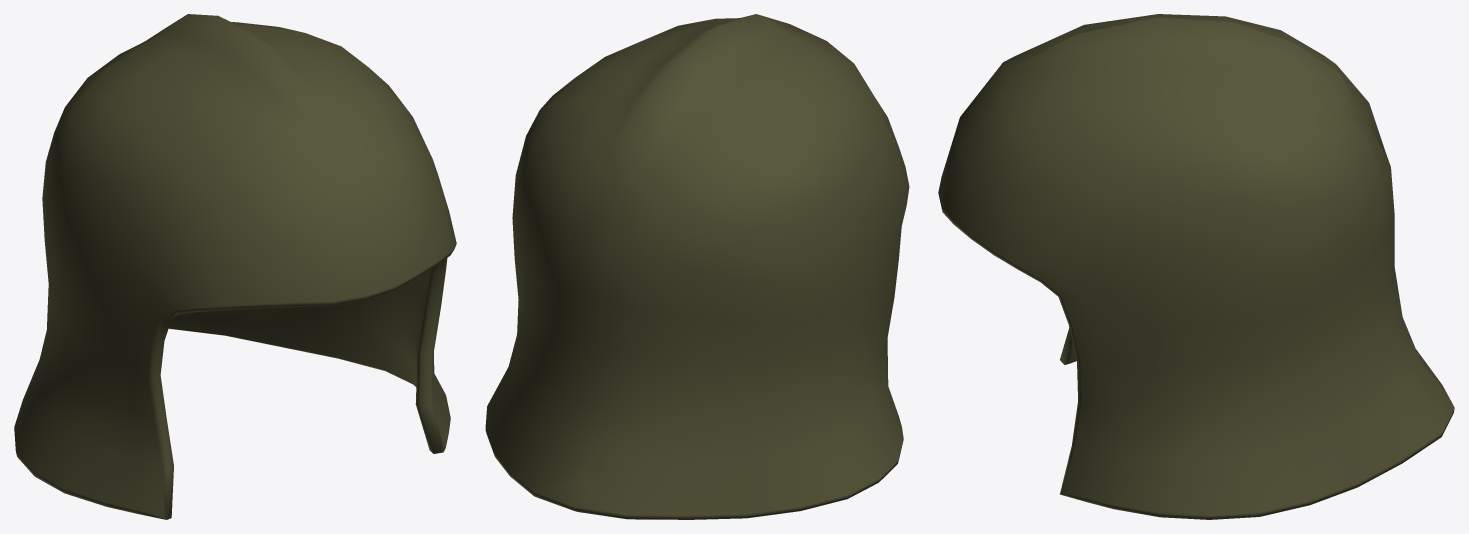
The model's file is Hat_SolidersHelm.fbx.
3 renders of one model, left to right at view 1: azimuth 30°, elevation 25°; view 2: azimuth 150°, elevation 25°; view 3: azimuth 270°, elevation 25°, orthographic. The views are drawn at different scales.
Visible parts, largest first — view 1: Hat_SteelHelmet_Group26596; view 2: Hat_SteelHelmet_Group26596; view 3: Hat_SteelHelmet_Group26596.
Part boxes in pixels (left/top/right/bottom): Hat_SteelHelmet_Group26596: left=14, top=14, right=456, bottom=519; Hat_SteelHelmet_Group26596: left=485, top=14, right=909, bottom=519; Hat_SteelHelmet_Group26596: left=938, top=14, right=1454, bottom=519.
Size of the model in its own units: 28.93 by 29.11 by 33.12.
